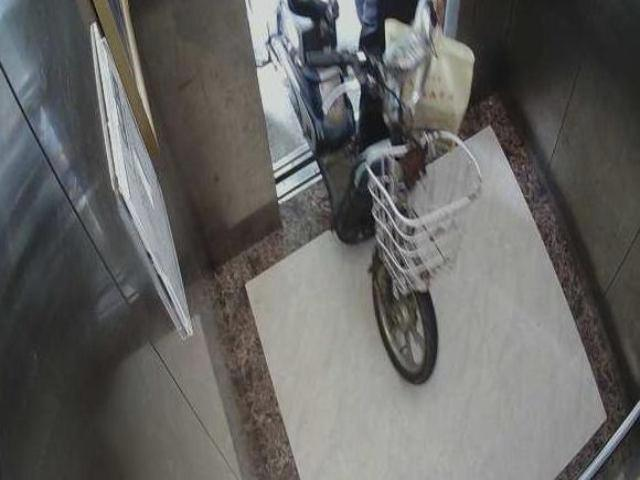emotor: (272, 8, 468, 378)
